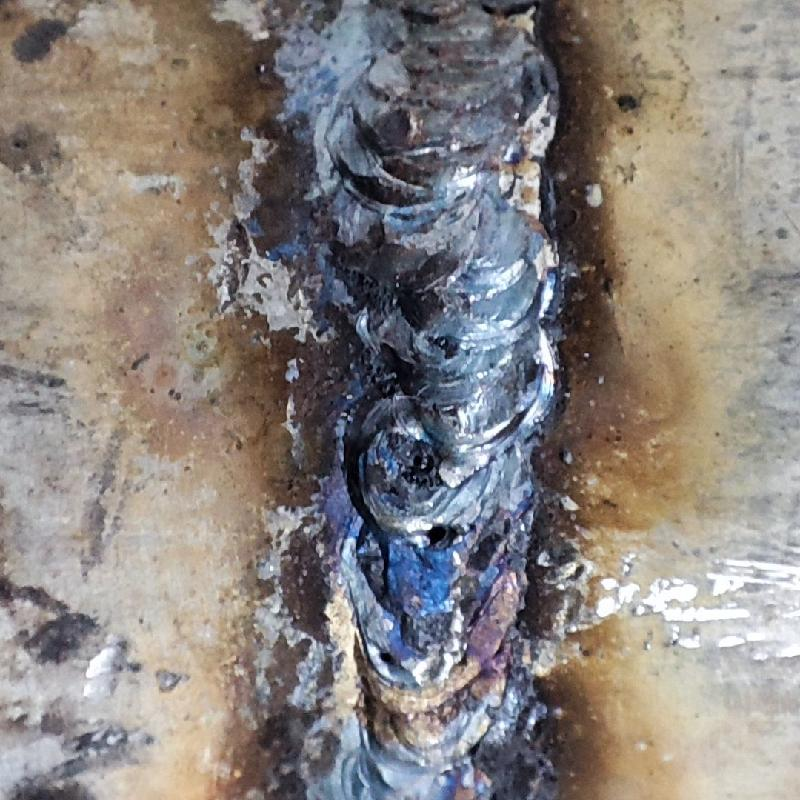Surface_pores: (396, 434, 448, 486), (363, 636, 418, 681), (418, 514, 458, 559)
